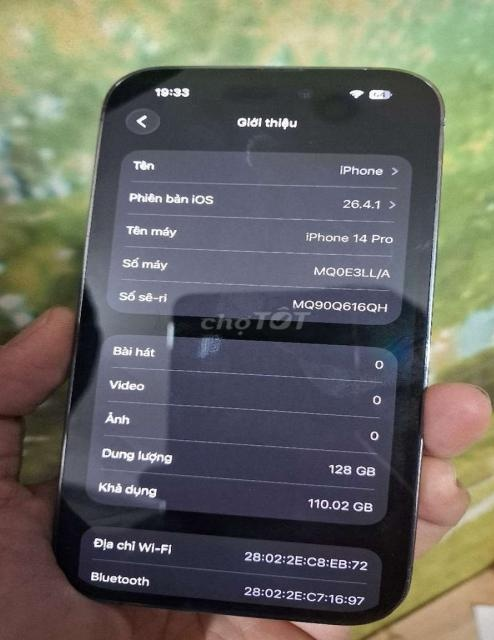scratch: (241, 121, 275, 179)
